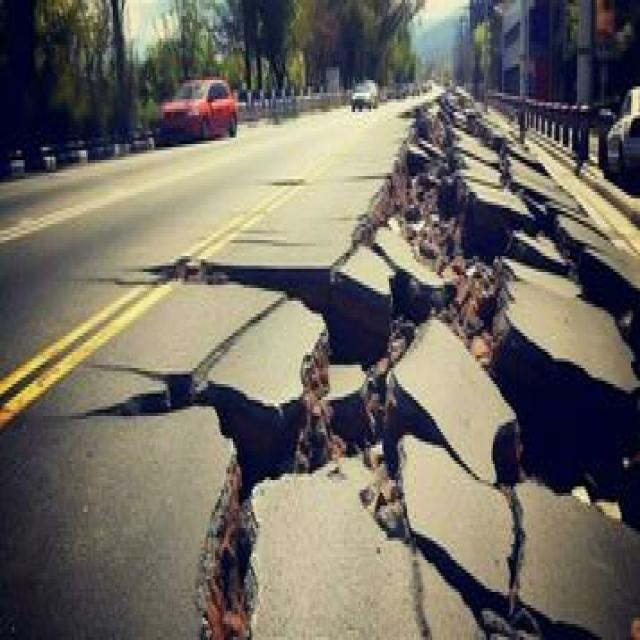road collapse: (12, 77, 640, 640)
